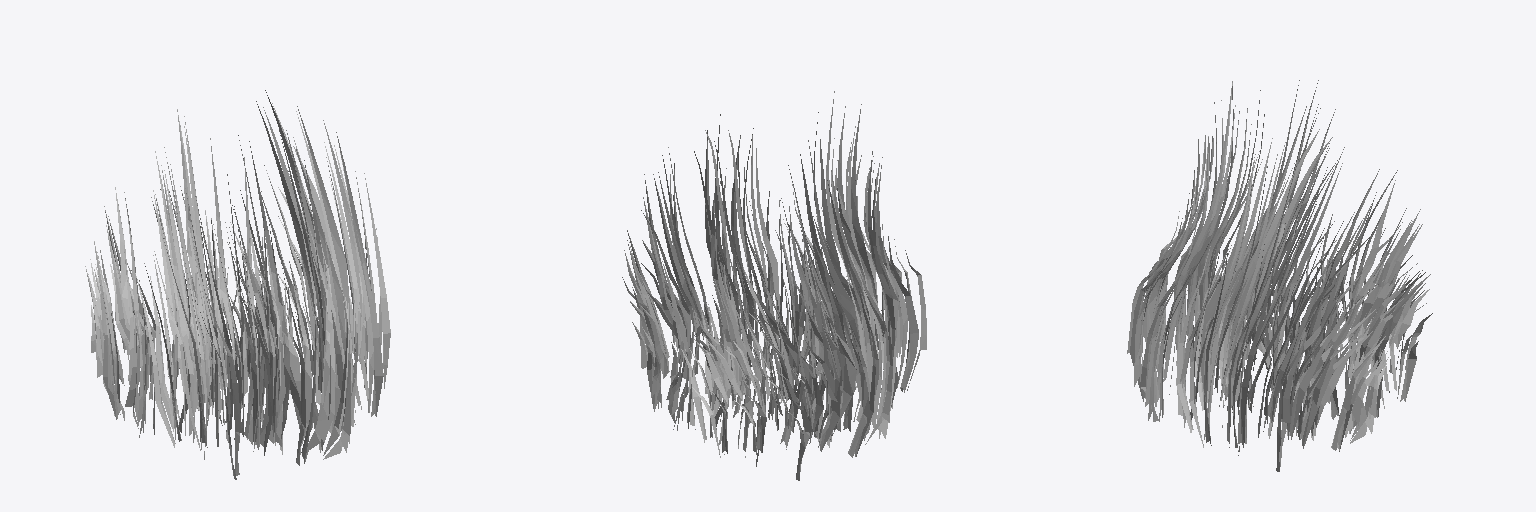
Rendered from grass.obj.
3 views of the same model, side by side, from view 1: azimuth 30°, elevation 25°; view 2: azimuth 150°, elevation 25°; view 3: azimuth 270°, elevation 25° (orthographic).
Parts seen in each view (by area): view 1: aquatic11; view 2: aquatic11; view 3: aquatic11.
Part boxes in pixels (x1,y1,x2,y2): aquatic11: (85,90,390,479); aquatic11: (622,91,926,480); aquatic11: (1127,80,1432,471).
Bounding box in the file's own units: 5.34 × 6.31 × 5.42.